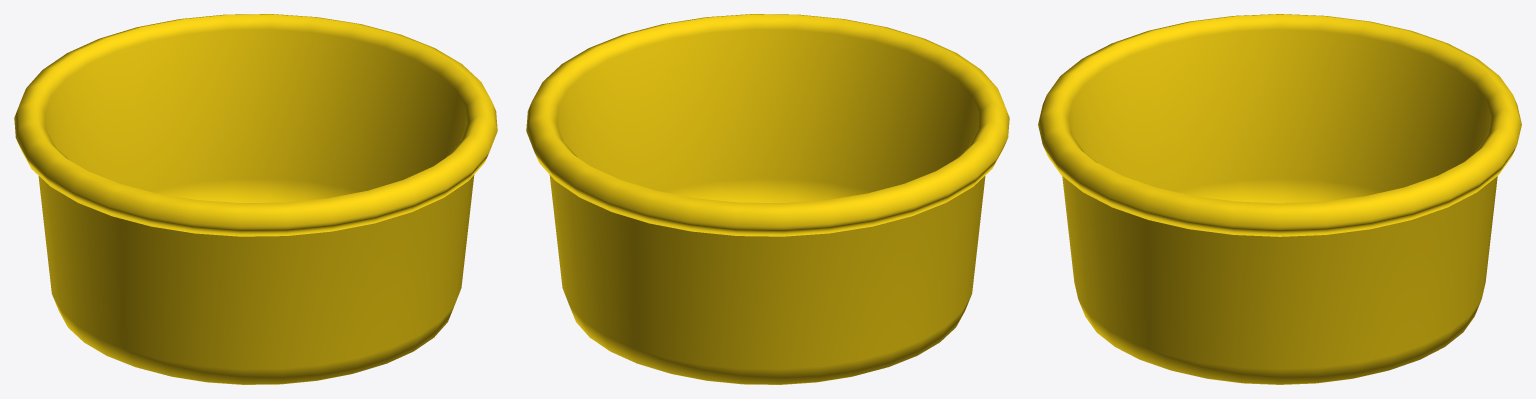
Rendered from wash_basin_lod_medium.glb.
The picture shows the model from 3 angles, left to right: view 1: azimuth 30°, elevation 25°; view 2: azimuth 150°, elevation 25°; view 3: azimuth 270°, elevation 25°; orthographic projection.
Visible parts, largest first — view 1: wash_basin_lod_medium; view 2: wash_basin_lod_medium; view 3: wash_basin_lod_medium.
Part boxes in pixels (x1,y1,x2,y2): wash_basin_lod_medium: (14,14,497,384); wash_basin_lod_medium: (526,14,1009,384); wash_basin_lod_medium: (1038,14,1521,384).
Bounding box in the file's own units: 0.2 × 0.0905 × 0.2.
